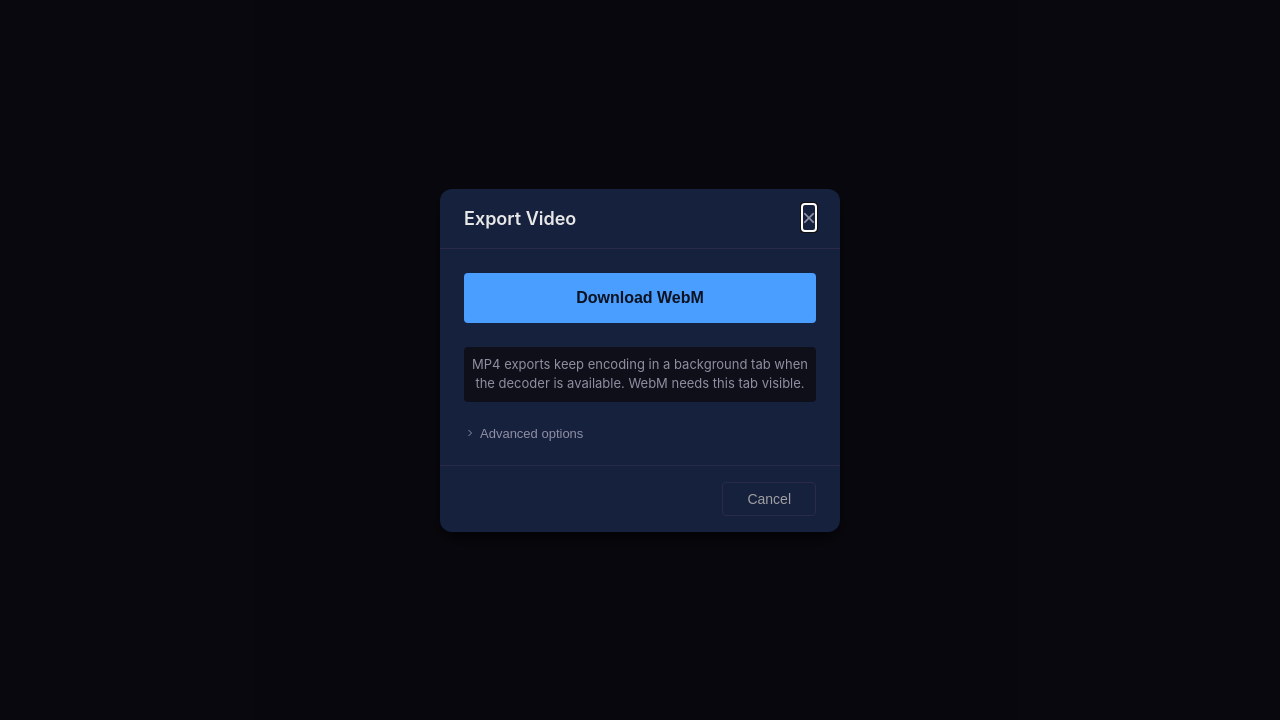
Test: ExportDialog › running an export › downloads the finished file and tells the host about it
Click the button "Download WebM" at {"x": 640, "y": 298}, box [464, 272, 816, 322]
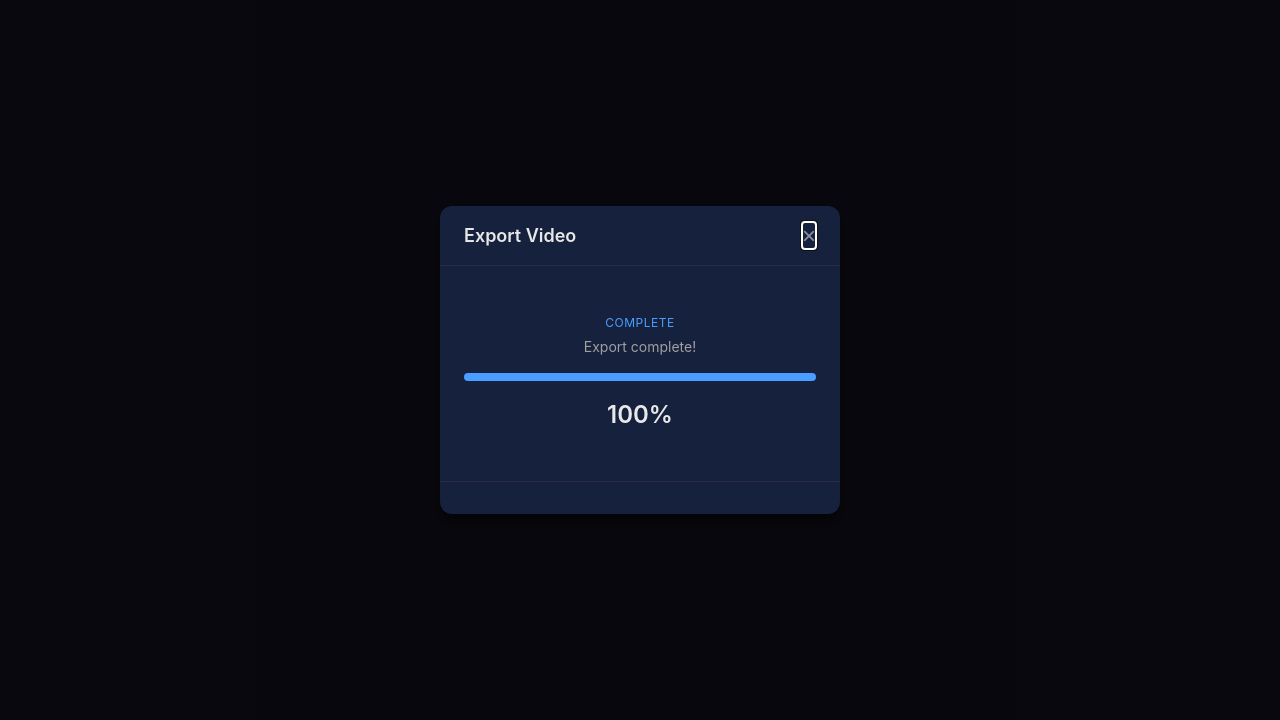
Now the text "Export complete!" is shown, box [584, 338, 696, 355]
